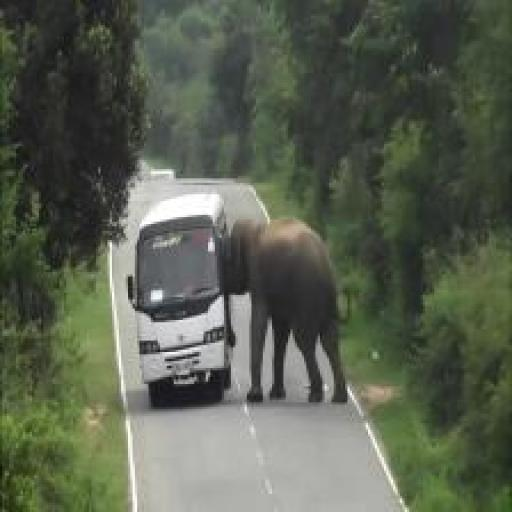Elephant: (231, 217, 354, 412)
